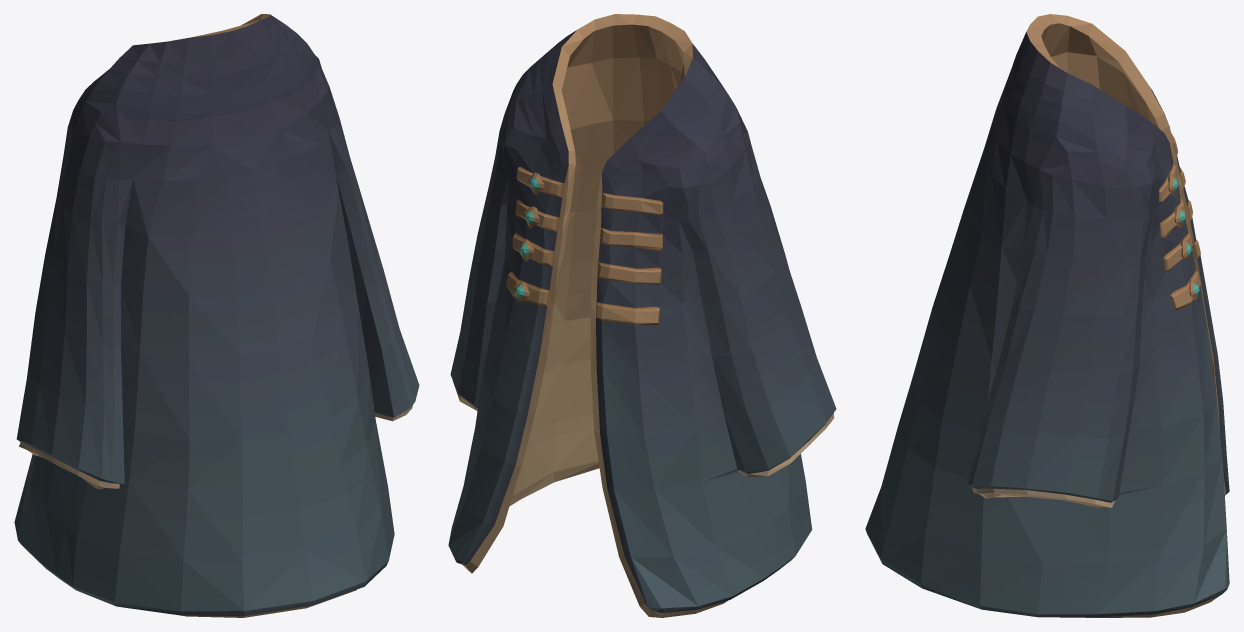
File: CharSkyKid_Wing_AP13Coat_01.glb
3 renders of one model, left to right at view 1: azimuth 30°, elevation 25°; view 2: azimuth 150°, elevation 25°; view 3: azimuth 270°, elevation 25°, orthographic. The views are drawn at different scales.
Parts seen in each view (by area): view 1: CharSkyKid_Wing_AP13Coat_01; view 2: CharSkyKid_Wing_AP13Coat_01; view 3: CharSkyKid_Wing_AP13Coat_01.
Boxes of the visible parts, x1,y1,x2,y2 form: CharSkyKid_Wing_AP13Coat_01: [14, 14, 419, 617]; CharSkyKid_Wing_AP13Coat_01: [448, 14, 836, 617]; CharSkyKid_Wing_AP13Coat_01: [865, 14, 1229, 617].
Bounding box in the file's own units: 6.11 × 8.66 × 5.48.
1 material, 1 textured.
